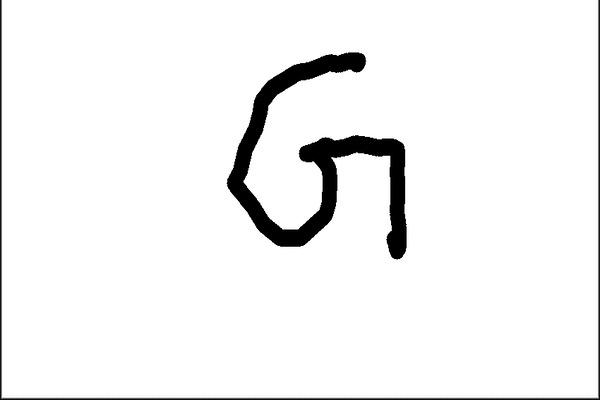G: (222, 50, 411, 265)
